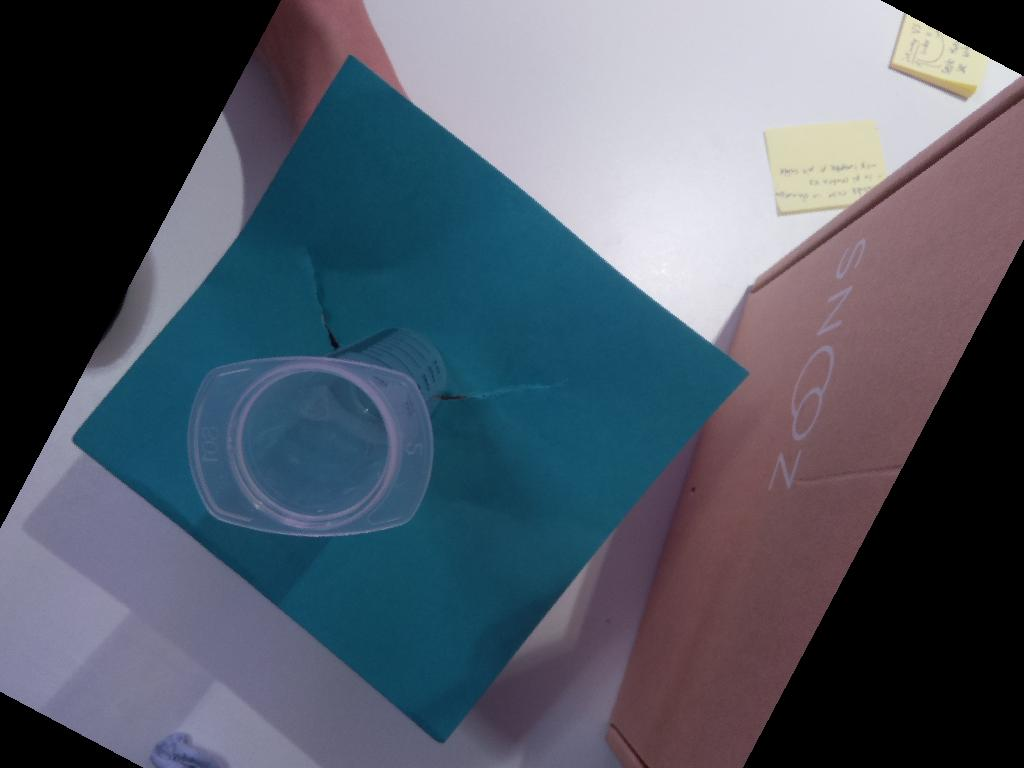clean: (187, 357, 439, 537)
